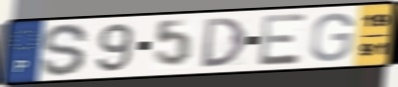5: (154, 17, 196, 72)
9: (94, 22, 137, 73)
D: (200, 15, 249, 69)
E: (257, 12, 310, 68)
G: (308, 11, 356, 63)
S: (39, 22, 92, 78)
